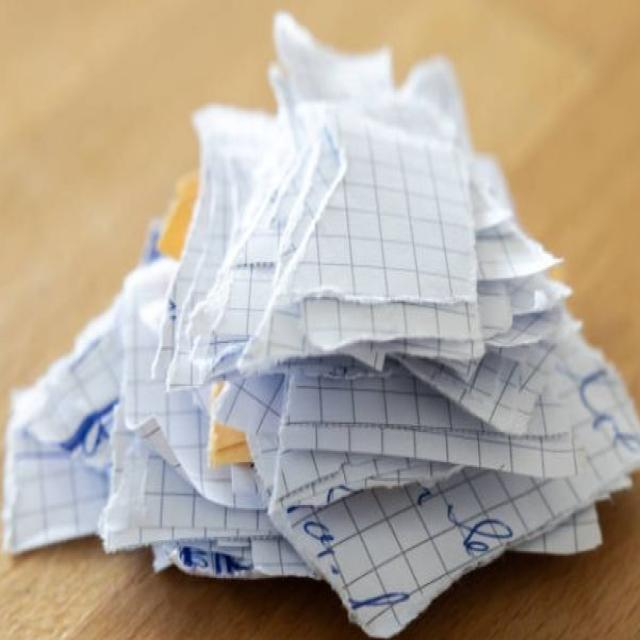electronic: (1, 9, 639, 638)
